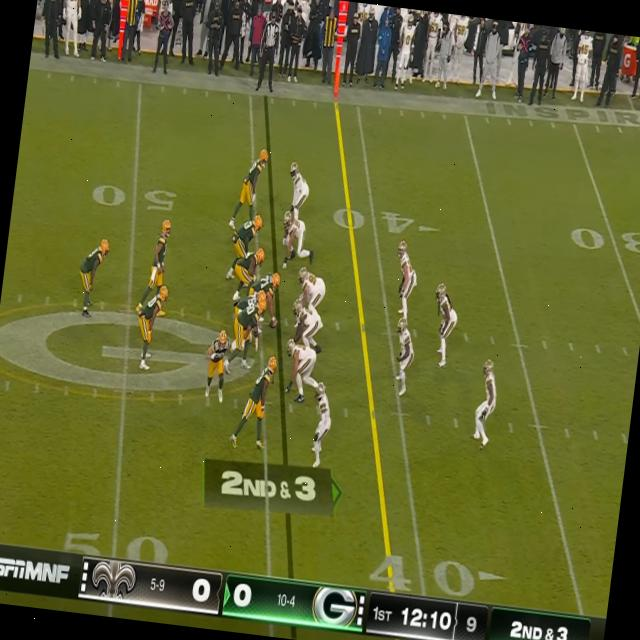Player: (239, 355, 276, 452), (132, 280, 170, 370), (469, 354, 501, 454), (227, 299, 267, 378), (74, 232, 110, 316), (428, 281, 460, 371), (386, 316, 418, 399), (306, 381, 336, 466), (278, 338, 320, 396), (201, 326, 232, 404), (390, 239, 421, 317), (236, 146, 270, 214), (145, 220, 173, 288), (288, 298, 326, 344), (280, 210, 312, 263), (232, 244, 266, 287), (296, 264, 330, 306), (230, 210, 262, 254), (286, 162, 311, 210), (250, 270, 284, 300), (234, 287, 266, 314)
Referee: (257, 9, 282, 93)
